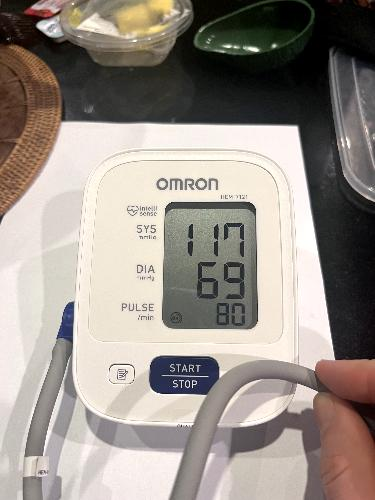bpm: (160, 201, 260, 331)
